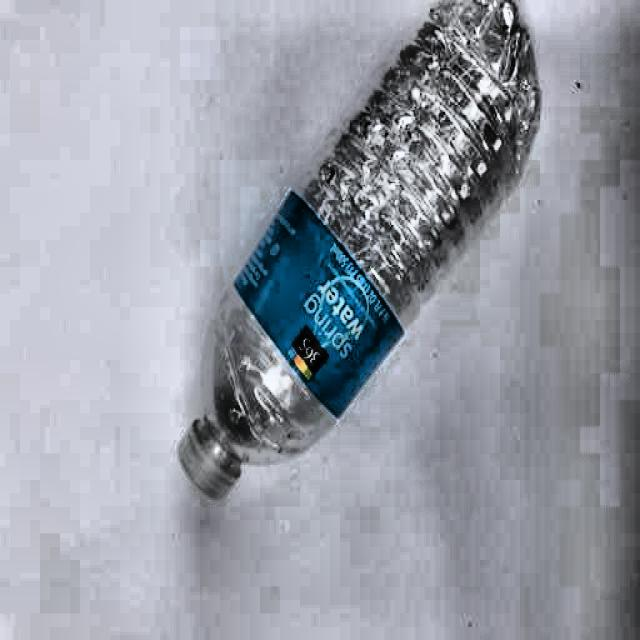plastic: (173, 0, 498, 505)
